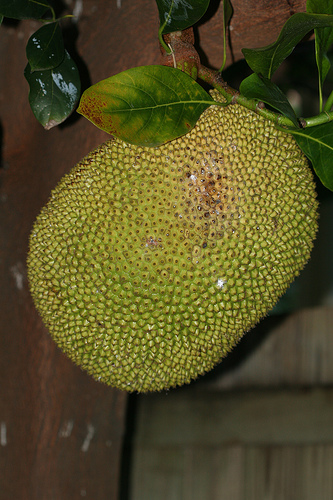jackfruit: (23, 98, 317, 392)
